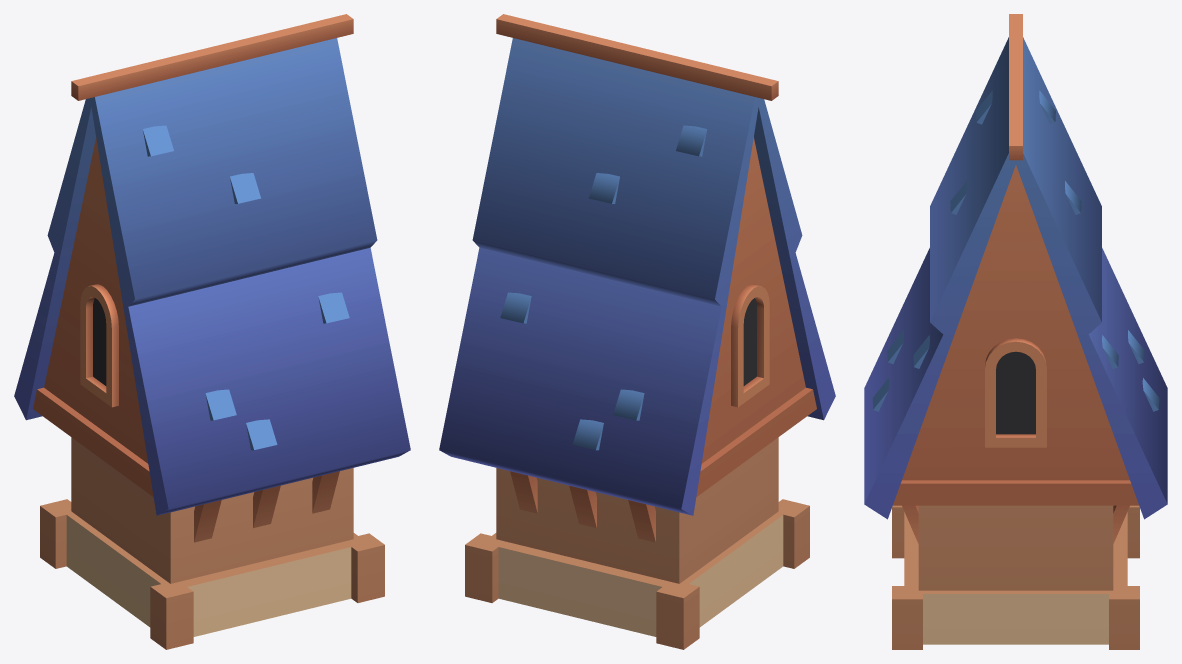
Rendered from tower-slant-roof.glb.
3 renders of one model, left to right at view 1: azimuth 30°, elevation 25°; view 2: azimuth 150°, elevation 25°; view 3: azimuth 270°, elevation 25°, orthographic.
Visible parts, largest first — view 1: tower-slant-roof; view 2: tower-slant-roof; view 3: tower-slant-roof.
Boxes of the visible parts, bbox=[...] form: tower-slant-roof: bbox=[14, 14, 410, 649]; tower-slant-roof: bbox=[439, 14, 835, 649]; tower-slant-roof: bbox=[864, 14, 1167, 649].
Size of the model in its own units: 1.17 by 2.14 by 1.14.
1 material, 1 textured.
